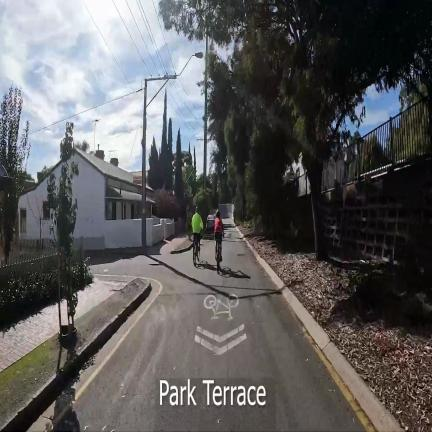Bike_Lane: (74, 228, 364, 432)
